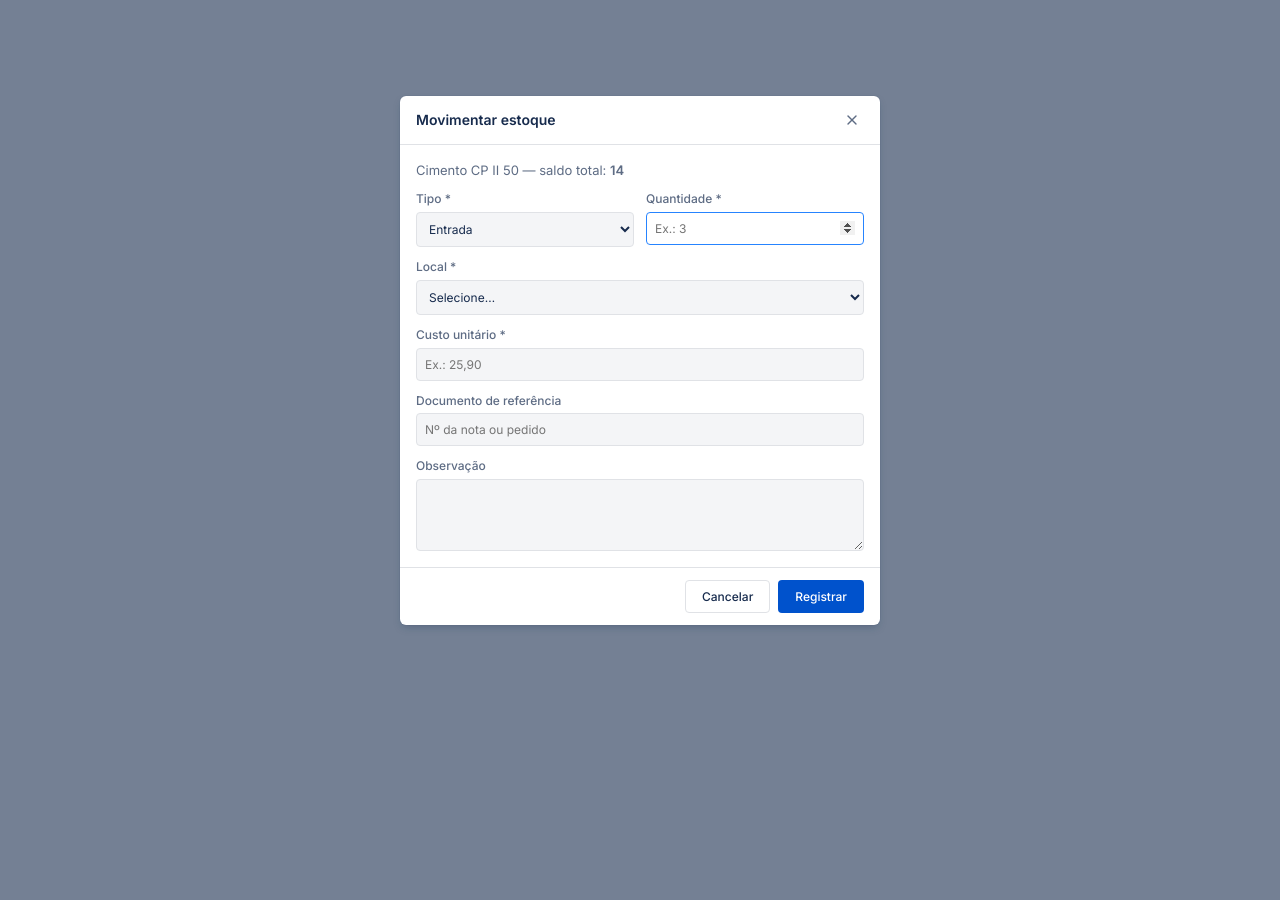
Test: MovimentoModal › exige o local do movimento
Step 1. Type "5" into the number field labelled "Quantidade *" → point(755, 228), box x1=646 y1=212 x2=864 y2=245
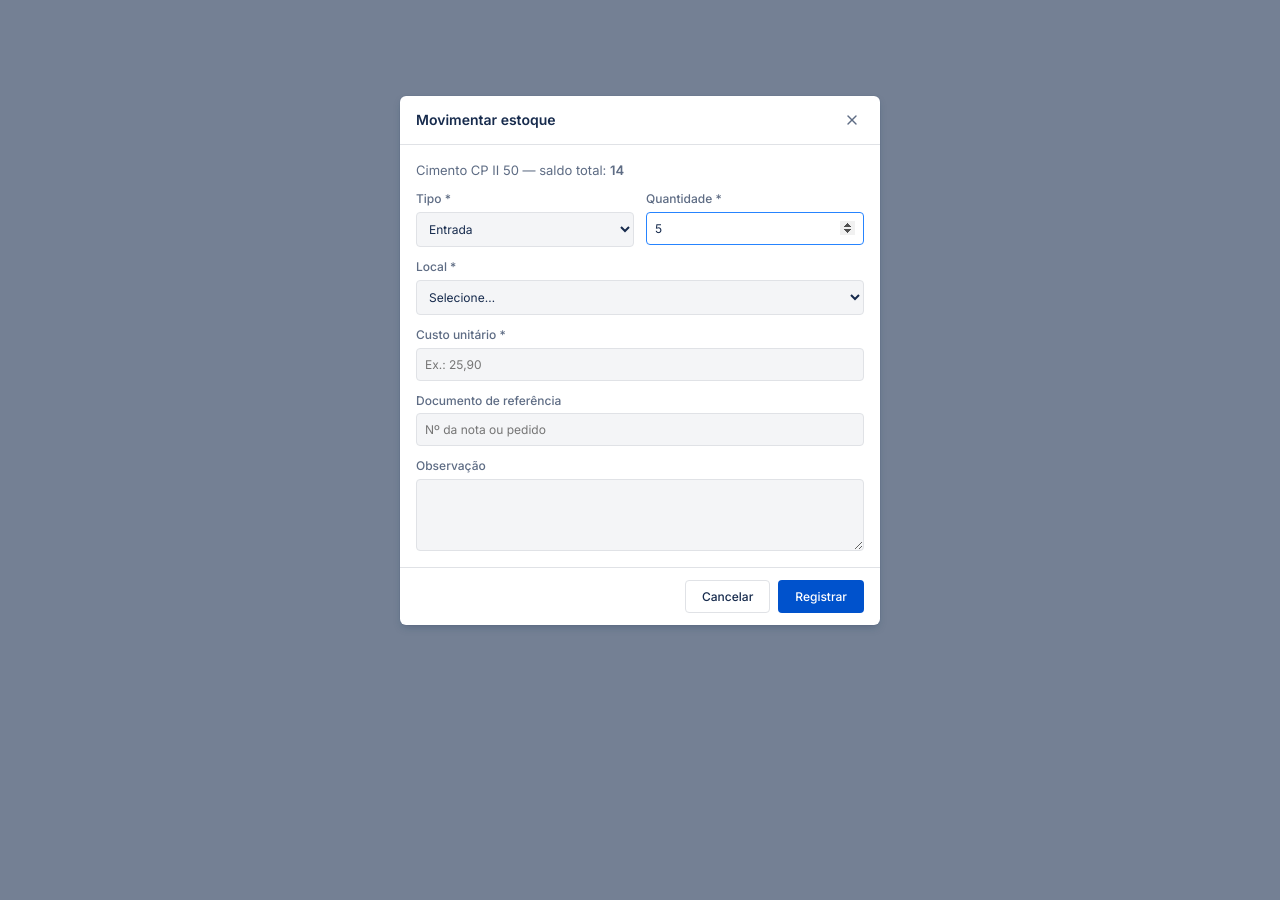
Step 2. Type "25,90" into the field labelled "Custo unitário *" → point(640, 364), box x1=416 y1=348 x2=864 y2=381
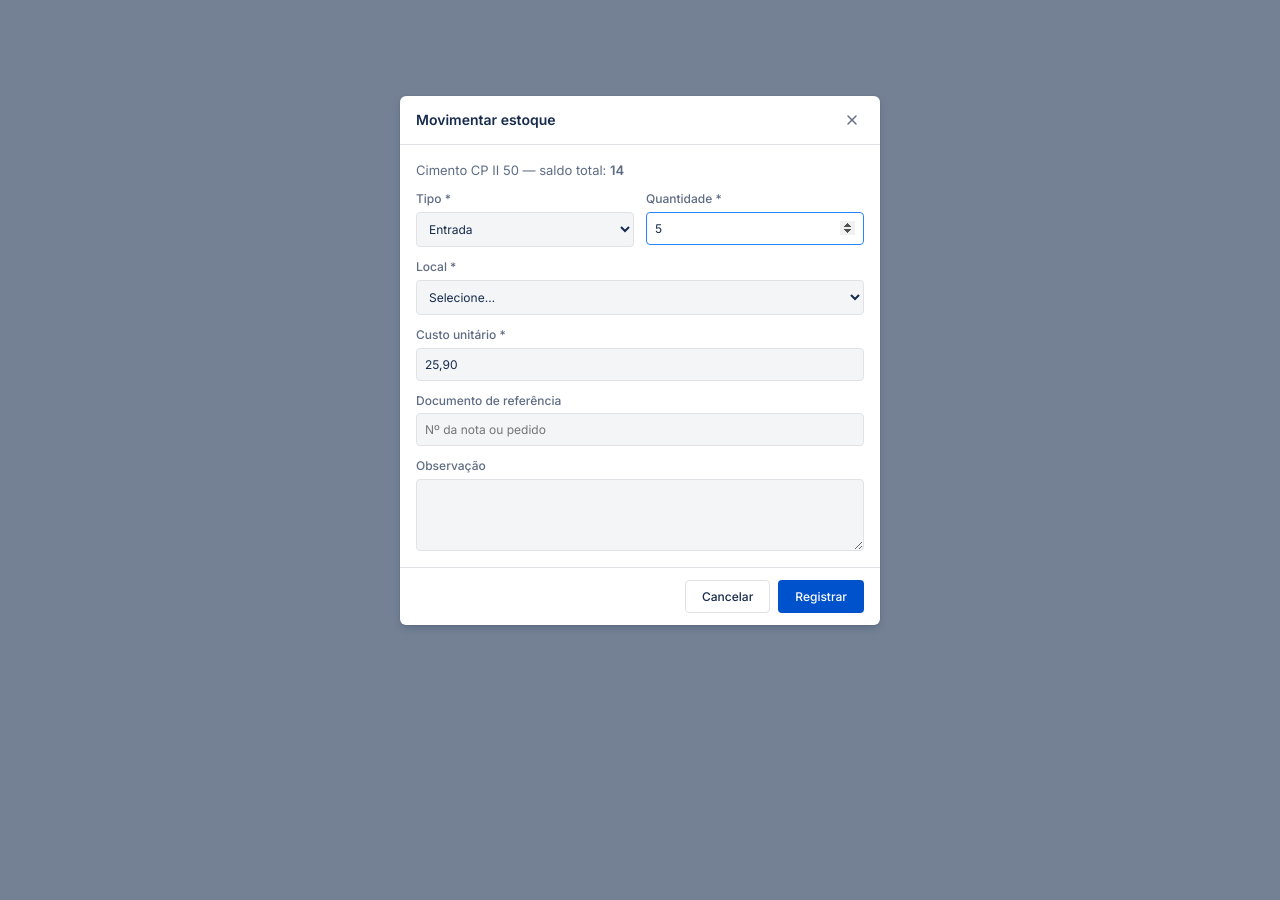
Step 3. Click the button "Registrar" → point(821, 597), box x1=778 y1=580 x2=864 y2=613
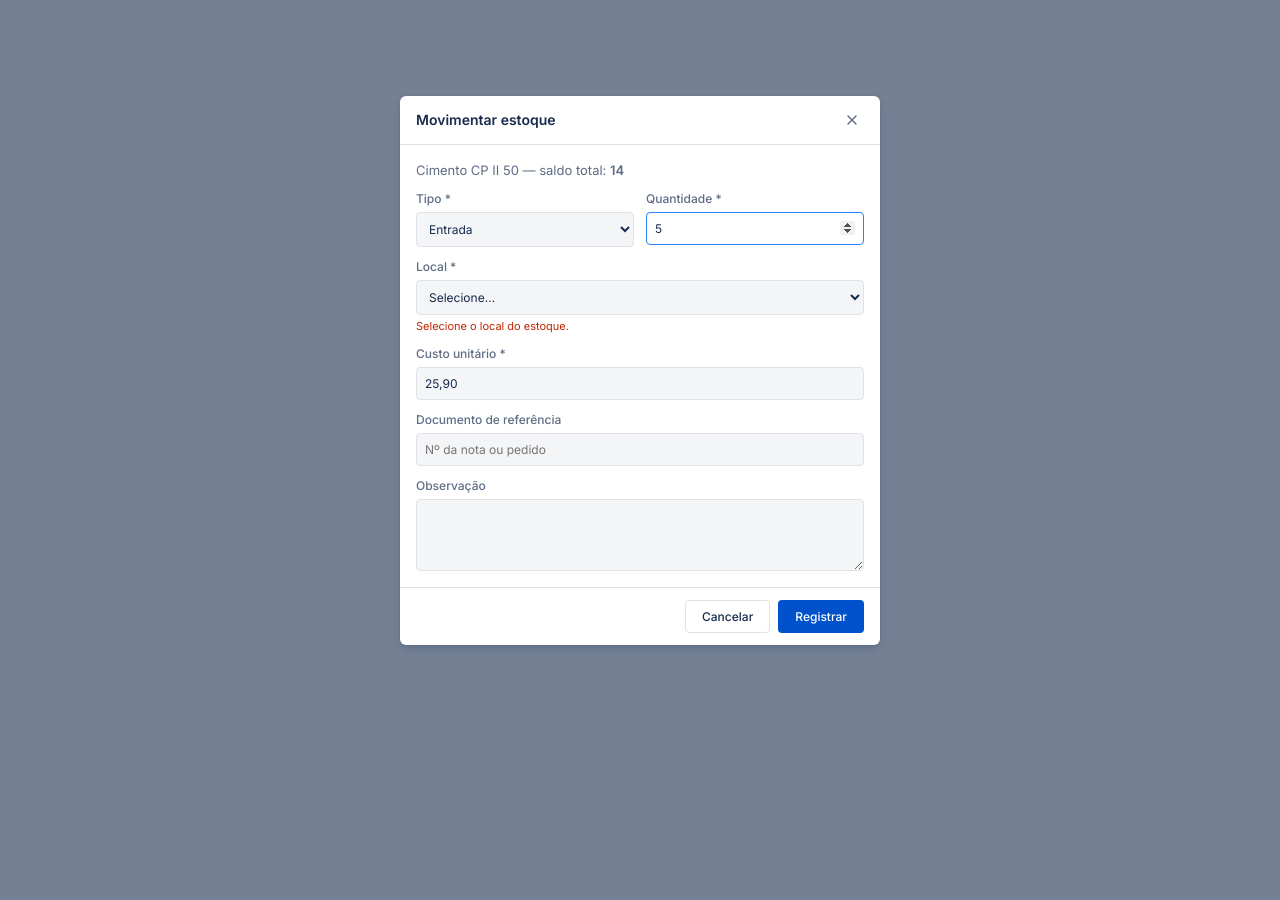
Check: the text "Selecione o local do estoque." is shown, box x1=416 y1=319 x2=569 y2=333
